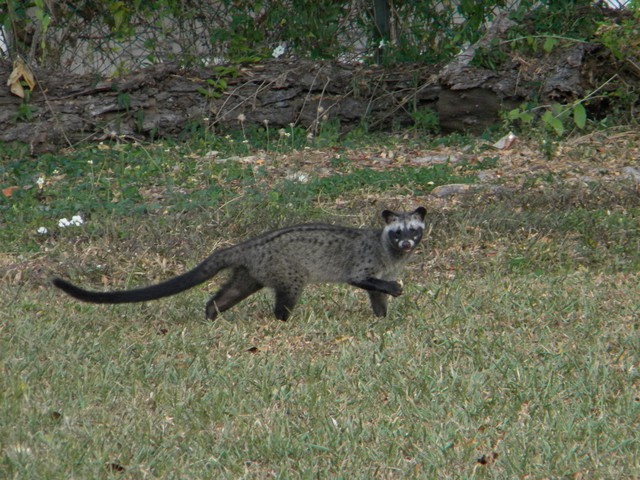civet: (48, 206, 436, 329)
